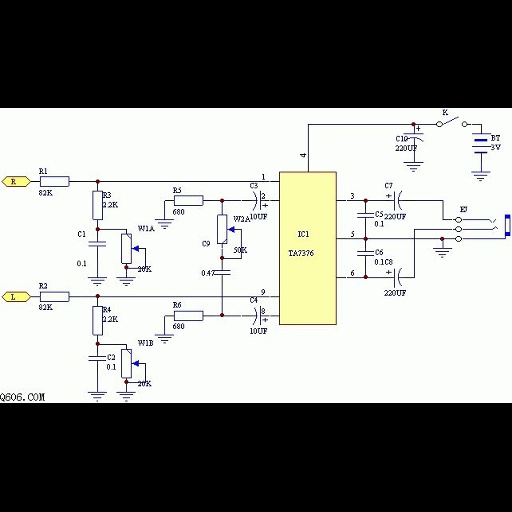battery: (470, 129, 491, 158)
capacitor: (87, 237, 108, 252), (83, 352, 107, 365), (214, 266, 235, 279), (354, 208, 375, 220), (354, 248, 375, 259)
firstpolarcapacitor: (383, 267, 409, 289), (401, 123, 427, 145), (251, 189, 271, 212), (385, 190, 405, 212), (251, 305, 271, 326)
firstresistance: (35, 290, 82, 303), (172, 193, 210, 208), (37, 175, 77, 188), (171, 309, 211, 322), (89, 187, 103, 224), (90, 303, 103, 339)
gnd: (153, 217, 176, 232), (114, 390, 139, 403), (430, 247, 454, 260), (115, 275, 138, 288), (153, 333, 177, 345), (85, 391, 109, 402), (85, 276, 108, 287)
